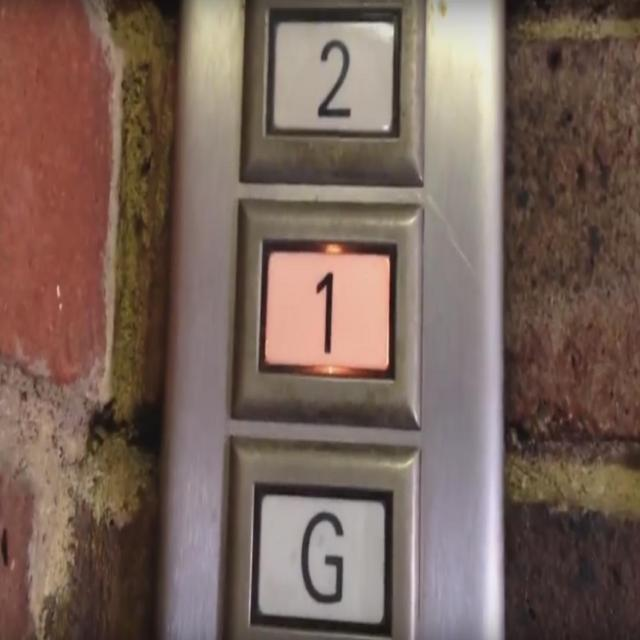1: (229, 199, 423, 429)
2: (236, 0, 424, 187)
G: (217, 437, 419, 639)
